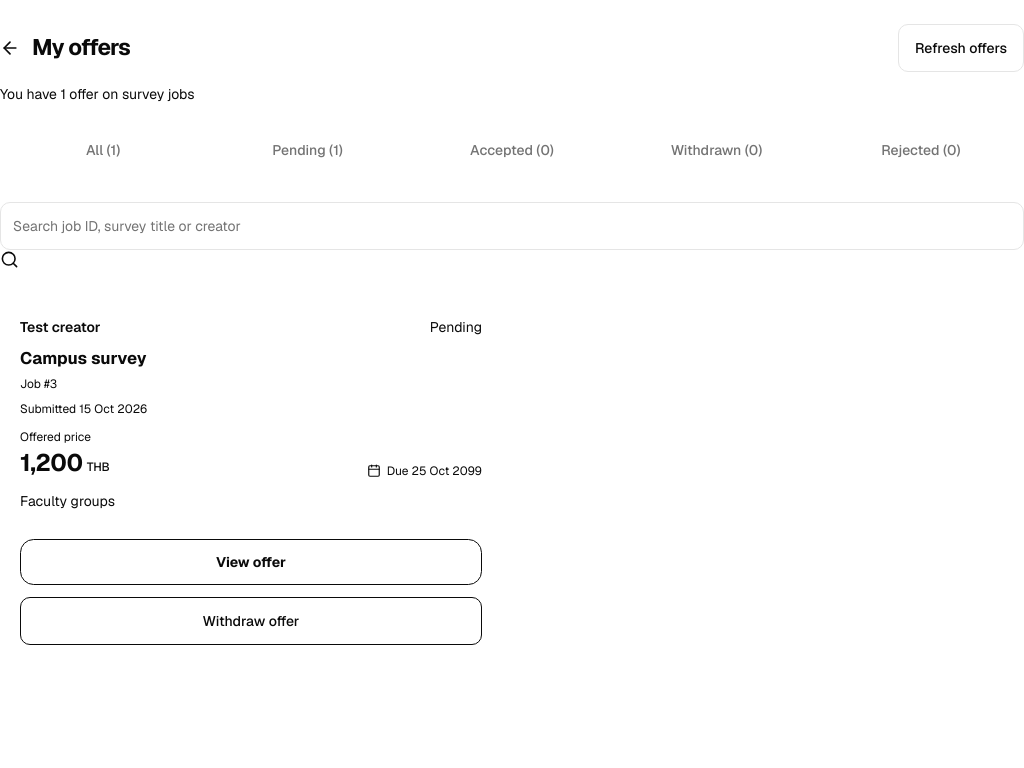
Test: MyOffersPage › opens modal and successfully withdraws offer, updating status to Withdrawn
// Click withdraw button on card
Click the button "Withdraw offer": (251, 621) [20, 597, 482, 645]
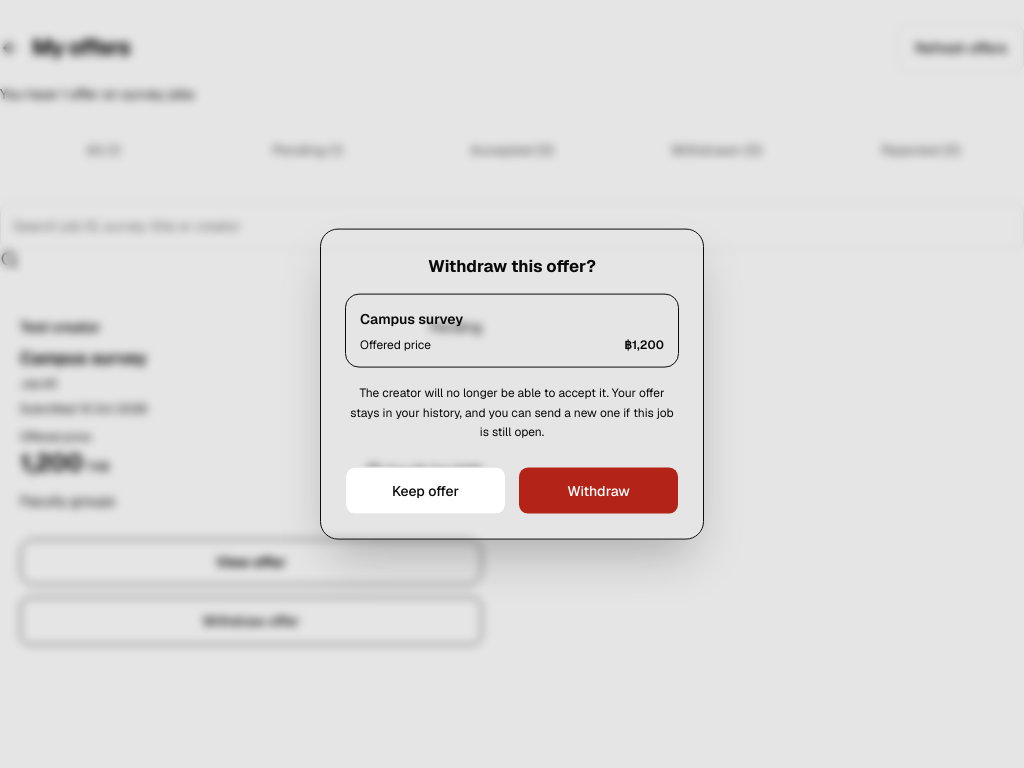
Now the heading "Withdraw this offer?" is shown, box [428, 255, 596, 277]
// Confirm withdraw
Click the button "Withdraw": (598, 490) [518, 466, 679, 514]
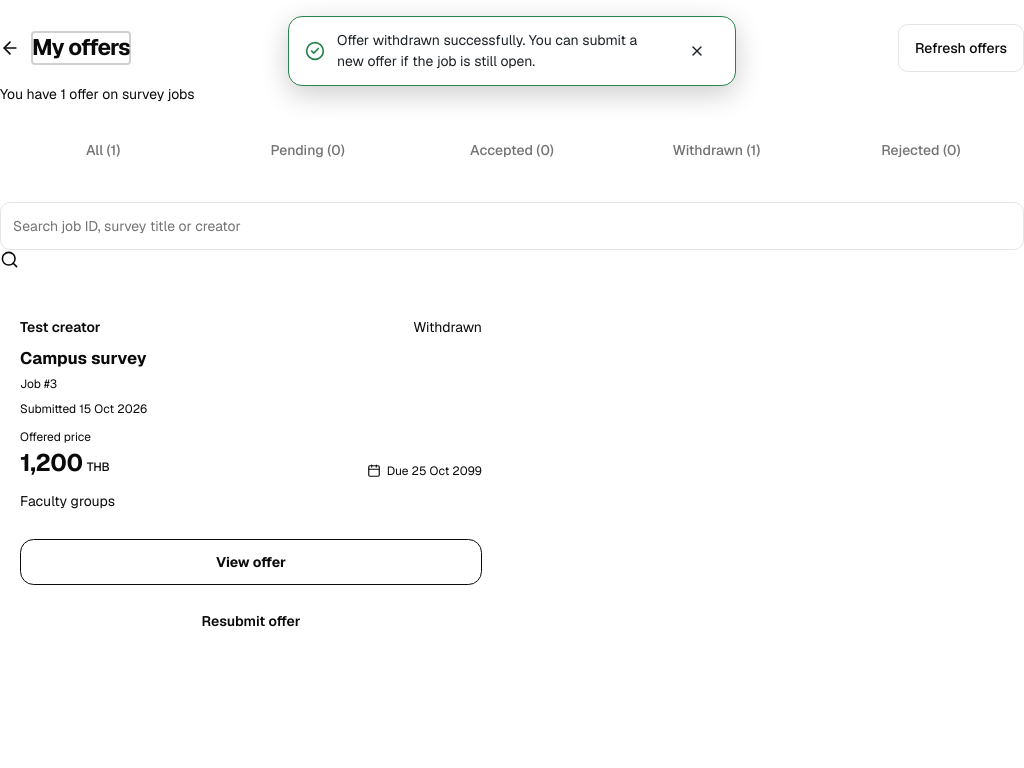
Now the heading "Withdraw this offer?" is gone
Now the message shows "Offer withdrawn successfully.", box [337, 31, 637, 70]
Now the text "Withdrawn" is shown, box [413, 317, 482, 337]
